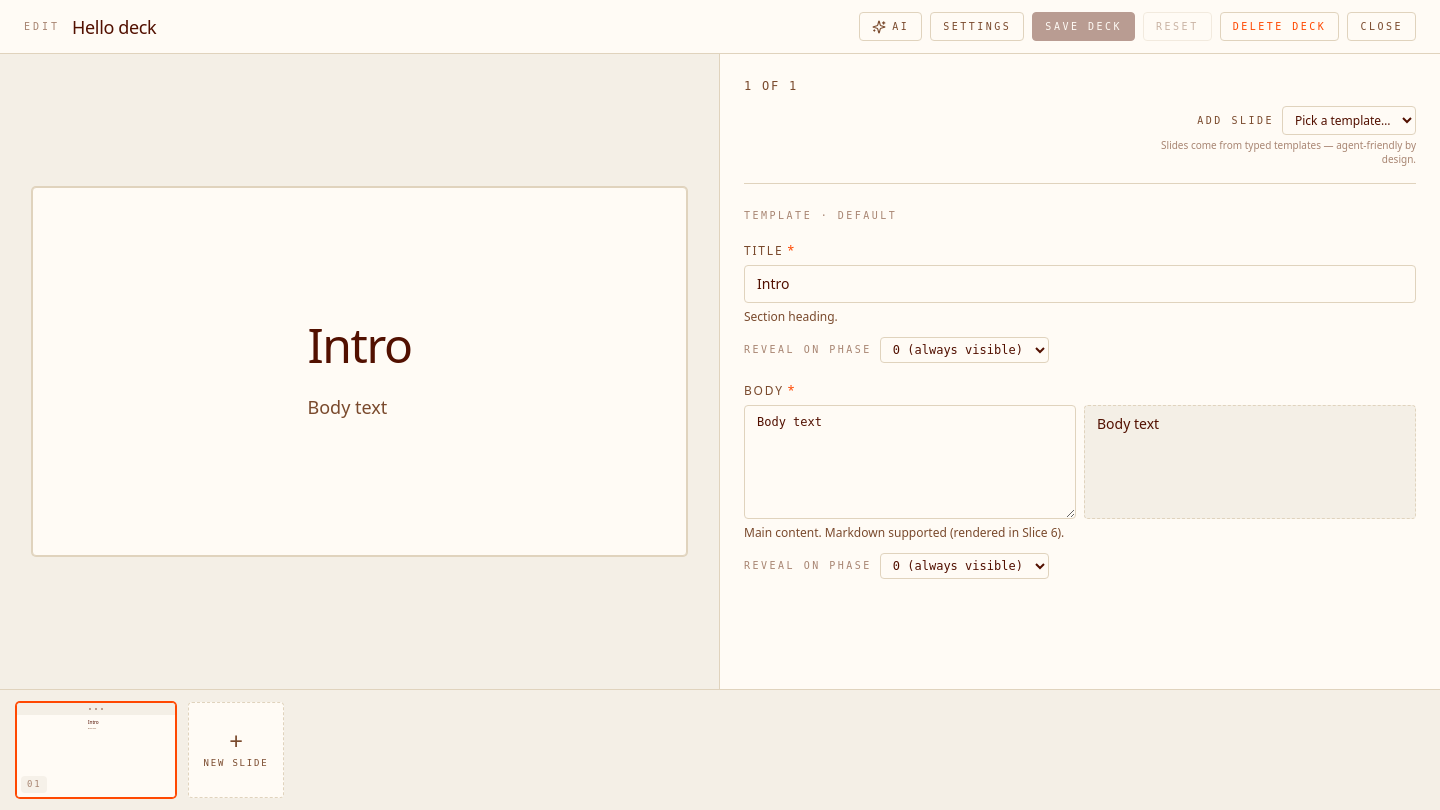
Test: <EditMode> — editing › Reset reverts the draft
Step 1. Replace the text in the field with test id "slot-input-title" with "X" → (1080, 284), box [744, 264, 1416, 302]
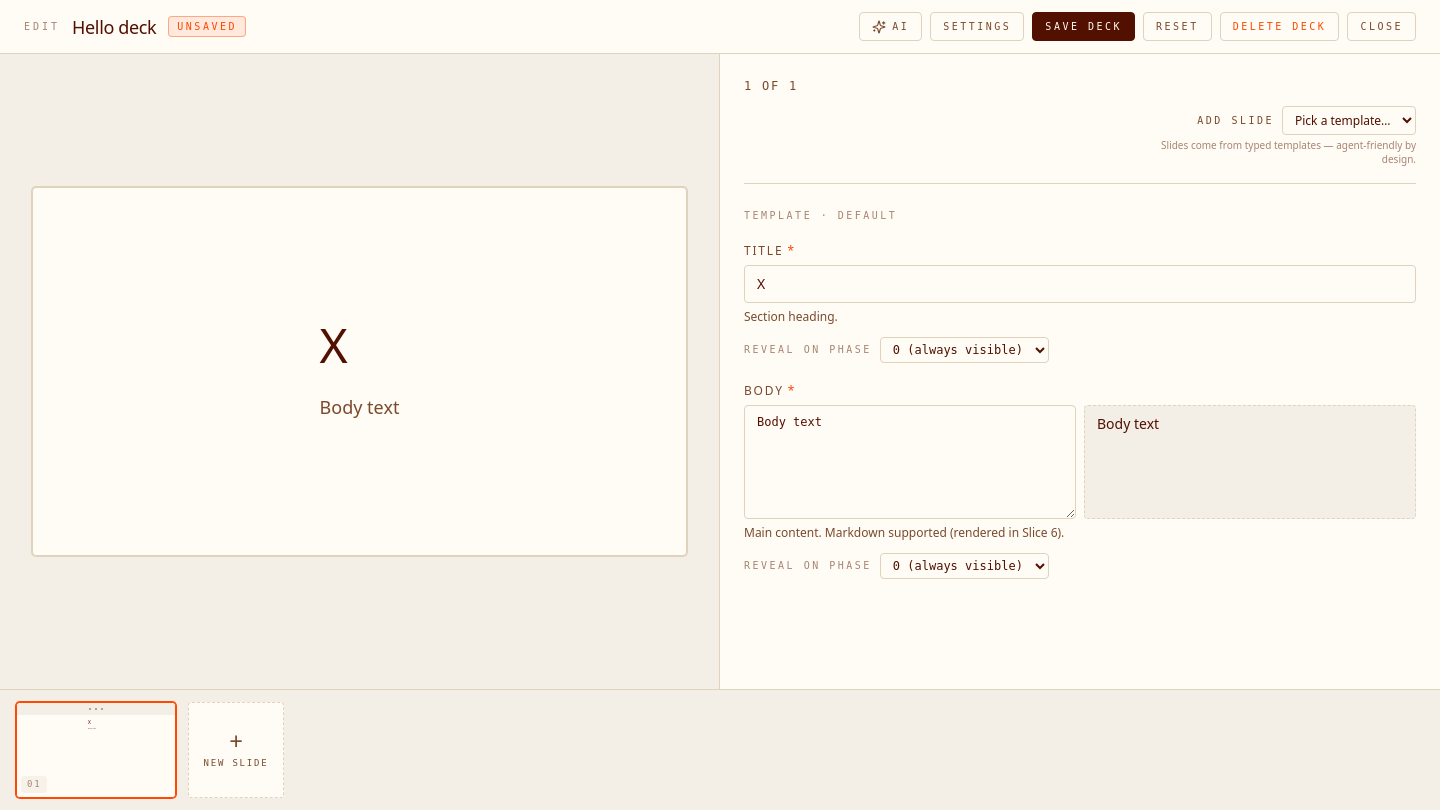
Step 2. Click the button with test id "edit-reset" → (1177, 26), box [1143, 12, 1212, 41]
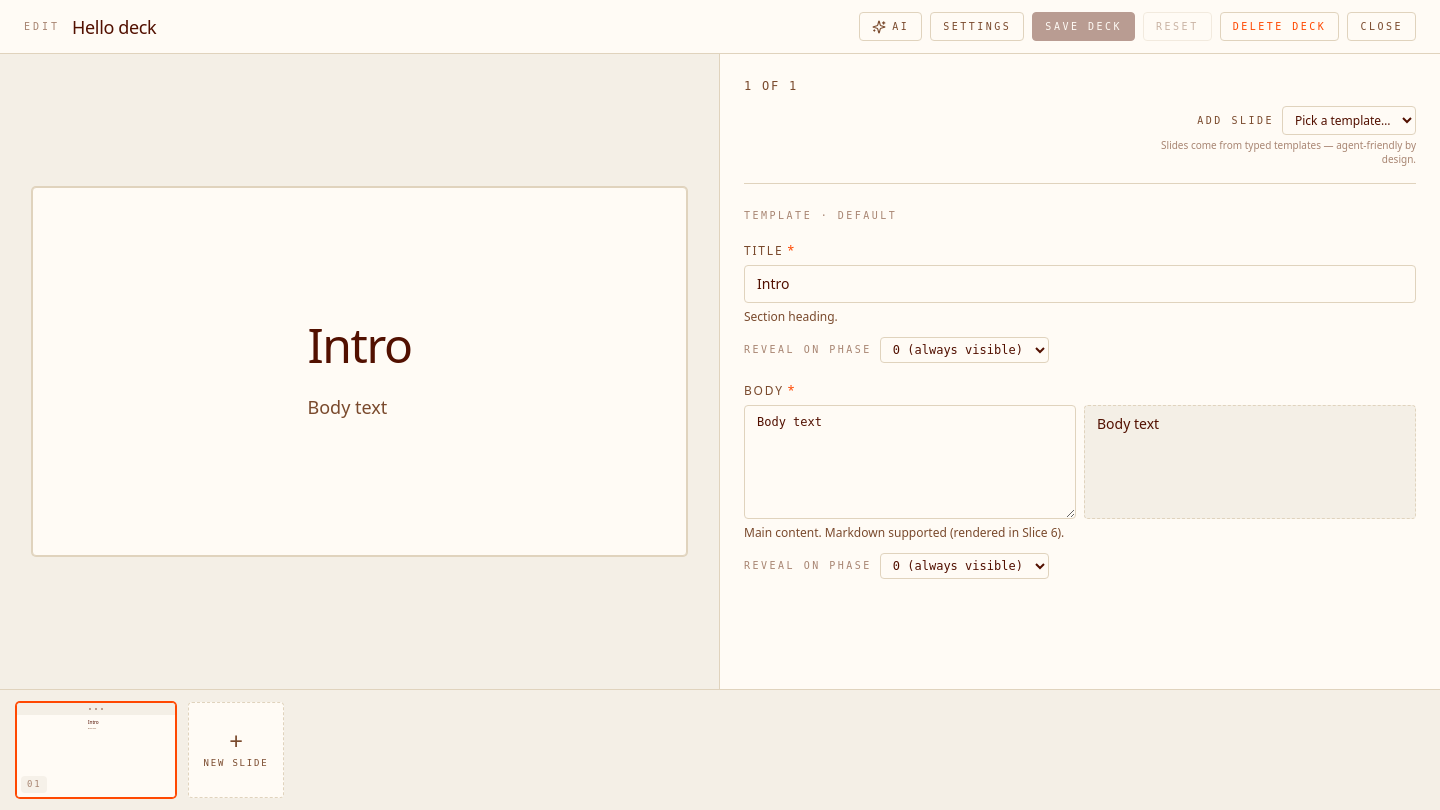
Now the field with test id "slot-input-title" holds "Intro", box [744, 264, 1416, 302]
Now the text with test id "dirty-indicator" is gone
